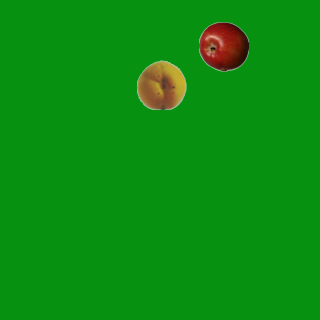Apple Braeburn: (198, 21, 248, 71)
Peach 2: (136, 59, 186, 109)
